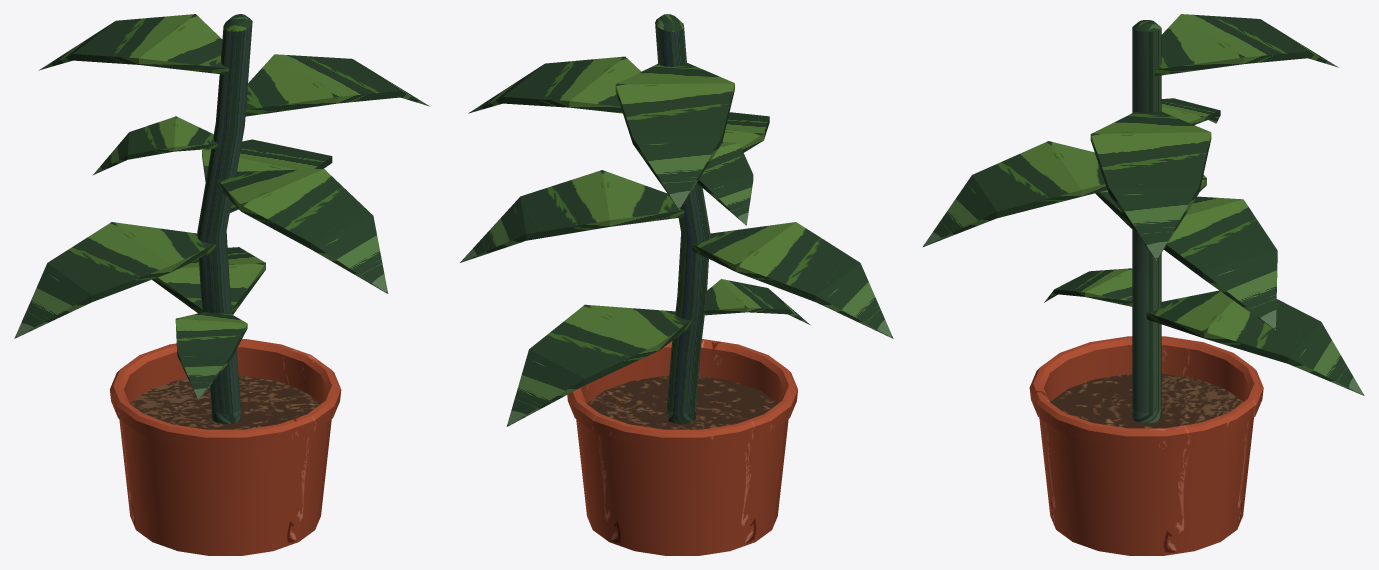
Rendered from PottedPlants.fbx.
3 renders of one model, left to right at view 1: azimuth 30°, elevation 25°; view 2: azimuth 150°, elevation 25°; view 3: azimuth 270°, elevation 25°, orthographic.
Visible parts, largest first — view 1: PlantPot, Leaves1, Leaves0, Plantbase, Leaves2, Leaves3, leaves6, leaves7, Leaves4, leaves5; view 2: PlantPot, Leaves2, Leaves4, Leaves0, leaves5, Plantbase, Leaves3, leaves7, leaves6, Leaves1; view 3: PlantPot, Leaves3, leaves5, Leaves4, Leaves1, Plantbase, Leaves2, leaves6, leaves7.
Boxes of the visible parts, <box> form: PlantPot: <box>109,339,341,555</box>; Leaves1: <box>217,169,388,293</box>; Leaves0: <box>14,222,215,338</box>; Plantbase: <box>197,14,252,424</box>; Leaves2: <box>39,14,229,74</box>; Leaves3: <box>245,54,429,116</box>; leaves6: <box>175,311,247,399</box>; leaves7: <box>92,116,217,175</box>; Leaves4: <box>152,247,265,314</box>; leaves5: <box>202,139,332,212</box>; PlantPot: <box>567,339,797,555</box>; Leaves2: <box>615,63,734,209</box>; Leaves4: <box>506,304,691,426</box>; Leaves0: <box>692,222,893,338</box>; leaves5: <box>460,170,684,262</box>; Plantbase: <box>655,14,710,424</box>; Leaves3: <box>468,56,641,113</box>; leaves7: <box>697,142,753,225</box>; leaves6: <box>703,279,809,324</box>; Leaves1: <box>722,112,769,152</box>; PlantPot: <box>1029,336,1263,555</box>; Leaves3: <box>1090,111,1211,260</box>; leaves5: <box>1164,196,1277,330</box>; Leaves4: <box>1146,290,1364,395</box>; Leaves1: <box>922,141,1107,247</box>; Plantbase: <box>1132,20,1161,423</box>; Leaves2: <box>1155,14,1338,76</box>; leaves6: <box>1044,268,1133,306</box>; leaves7: <box>1161,98,1220,124</box>.
Size of the model in its own units: 510 by 459 by 574.
